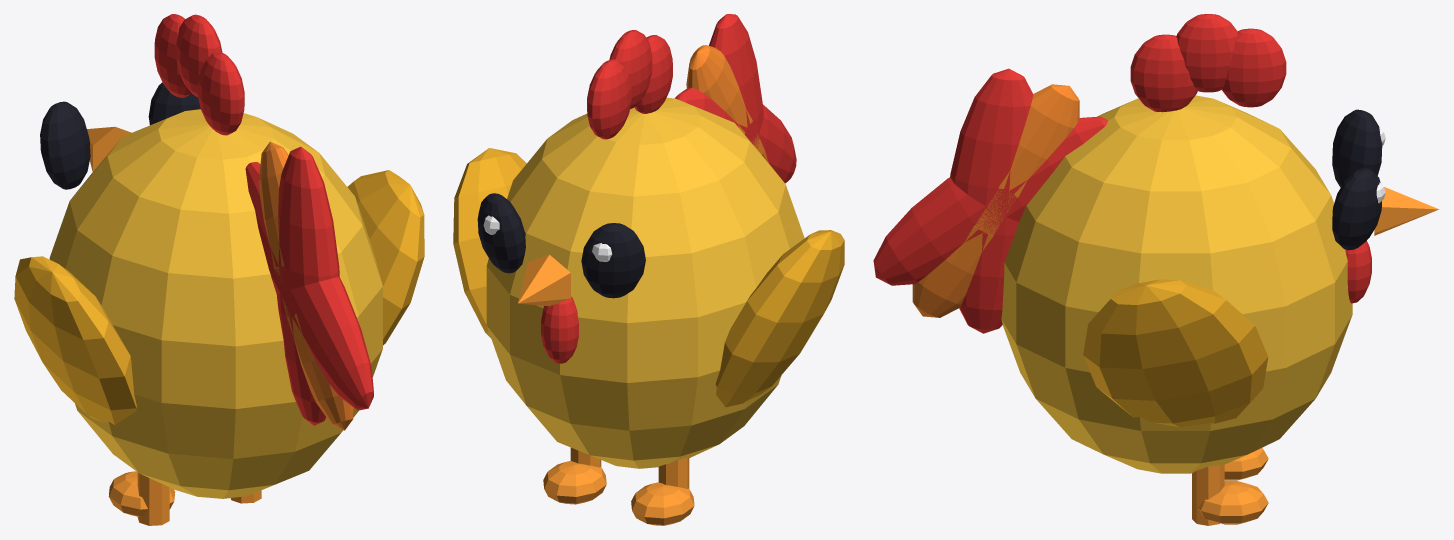
File: GoldenRooster.fbx
The picture shows the model from 3 angles, left to right: view 1: azimuth 30°, elevation 25°; view 2: azimuth 150°, elevation 25°; view 3: azimuth 270°, elevation 25°; orthographic projection. The views are drawn at different scales.
Parts seen in each view (by area): view 1: Pet_FFC83A_Metal, Pet_E8322E, Pet_F2B024_Metal, Pet_1E1E2A, Pet_FF8A2A, Pet_FF9A2E; view 2: Pet_FFC83A_Metal, Pet_F2B024_Metal, Pet_E8322E, Pet_FF9A2E, Pet_1E1E2A, Pet_FF8A2A, Pet_FFFFFF; view 3: Pet_FFC83A_Metal, Pet_E8322E, Pet_F2B024_Metal, Pet_FF8A2A, Pet_1E1E2A, Pet_FF9A2E.
Part boxes in pixels (x1,y1,x2,y2): Pet_FFC83A_Metal: [49, 109, 382, 498]; Pet_E8322E: [154, 14, 373, 425]; Pet_F2B024_Metal: [14, 170, 424, 424]; Pet_1E1E2A: [40, 82, 200, 189]; Pet_FF8A2A: [258, 141, 354, 430]; Pet_FF9A2E: [87, 126, 261, 525]; Pet_FFC83A_Metal: [486, 97, 804, 468]; Pet_F2B024_Metal: [453, 148, 844, 407]; Pet_E8322E: [541, 14, 796, 363]; Pet_FF9A2E: [518, 254, 694, 525]; Pet_1E1E2A: [477, 193, 645, 298]; Pet_FF8A2A: [686, 45, 768, 162]; Pet_FFFFFF: [483, 215, 612, 261]; Pet_FFC83A_Metal: [1001, 95, 1352, 473]; Pet_E8322E: [873, 14, 1371, 333]; Pet_F2B024_Metal: [1083, 279, 1268, 427]; Pet_FF8A2A: [912, 84, 1079, 317]; Pet_1E1E2A: [1332, 109, 1382, 250]; Pet_FF9A2E: [1192, 187, 1438, 525].
Size of the model in its own units: 1.3 by 1.64 by 1.73.
